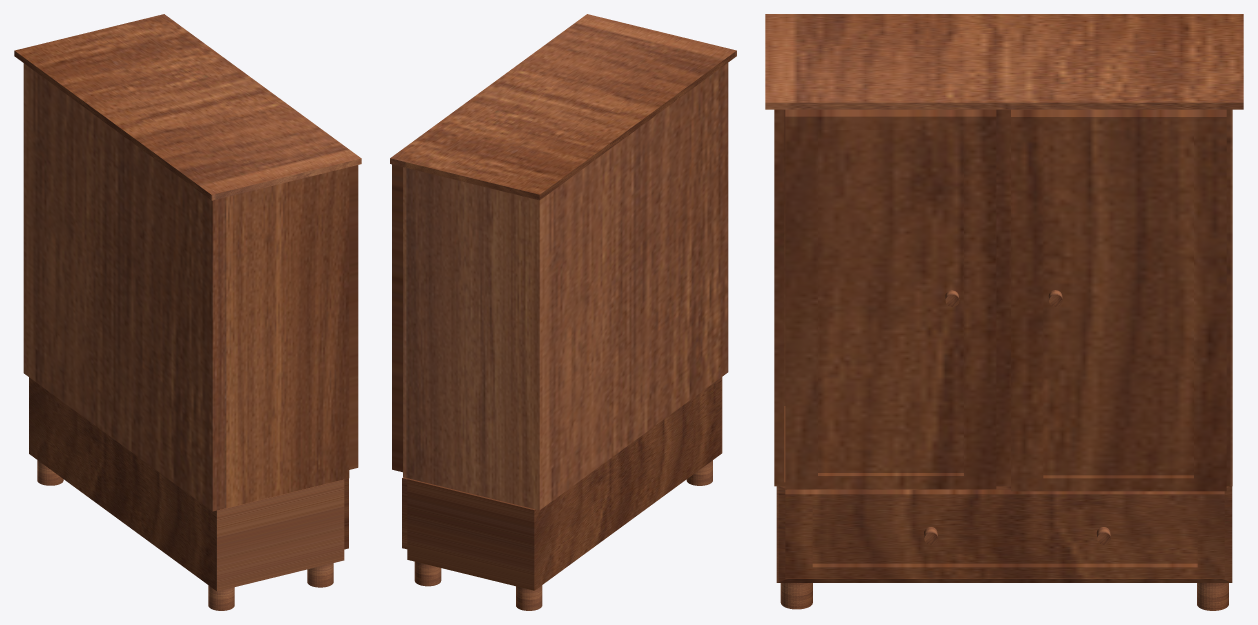
File: CabinetTextured.fbx
The picture shows the model from 3 angles, left to right: view 1: azimuth 30°, elevation 25°; view 2: azimuth 150°, elevation 25°; view 3: azimuth 270°, elevation 25°; orthographic projection. The views are drawn at different scales.
Parts seen in each view (by area): view 1: cabinet, door; view 2: cabinet, door; view 3: door, cabinet.
Part boxes in pixels (box(x1,y1,x2,y2)): cabinet: box(14, 14, 361, 610); door: box(349, 165, 358, 469); cabinet: box(390, 14, 736, 610); door: box(392, 164, 402, 472); door: box(785, 109, 1226, 491); cabinet: box(765, 14, 1243, 610).
Size of the model in its own units: 462 by 1188 by 997.
